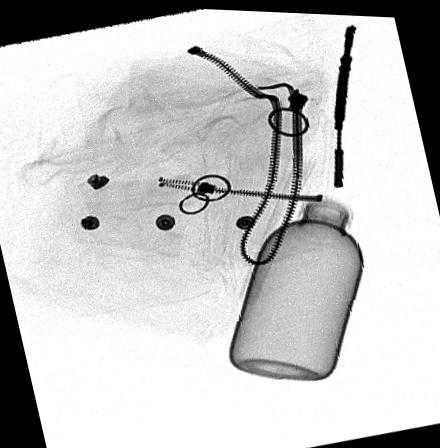Gun: (329, 20, 356, 183)
